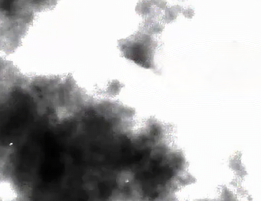Target: (10, 143, 129, 182)
